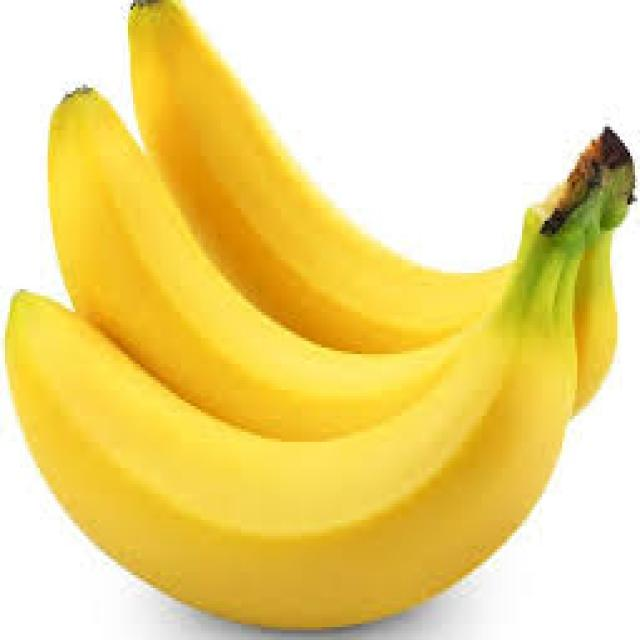Banana: (7, 197, 613, 627), (50, 92, 464, 439), (129, 3, 505, 352)
